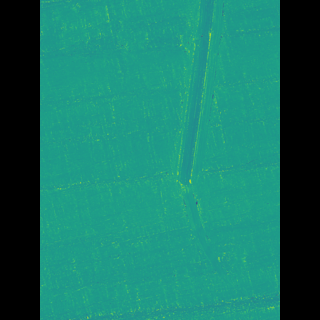Loch: (164, 0, 215, 290)
